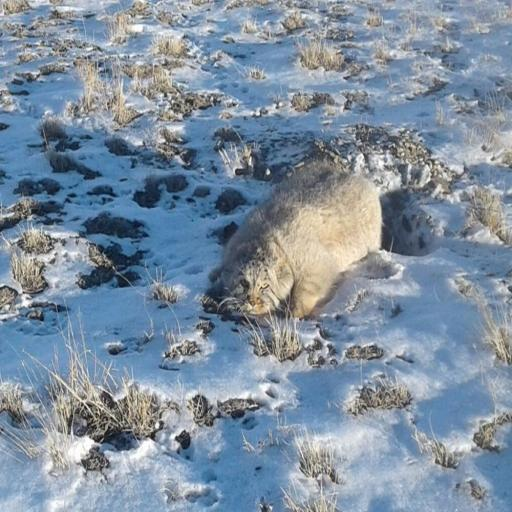manul: (210, 161, 383, 318)
